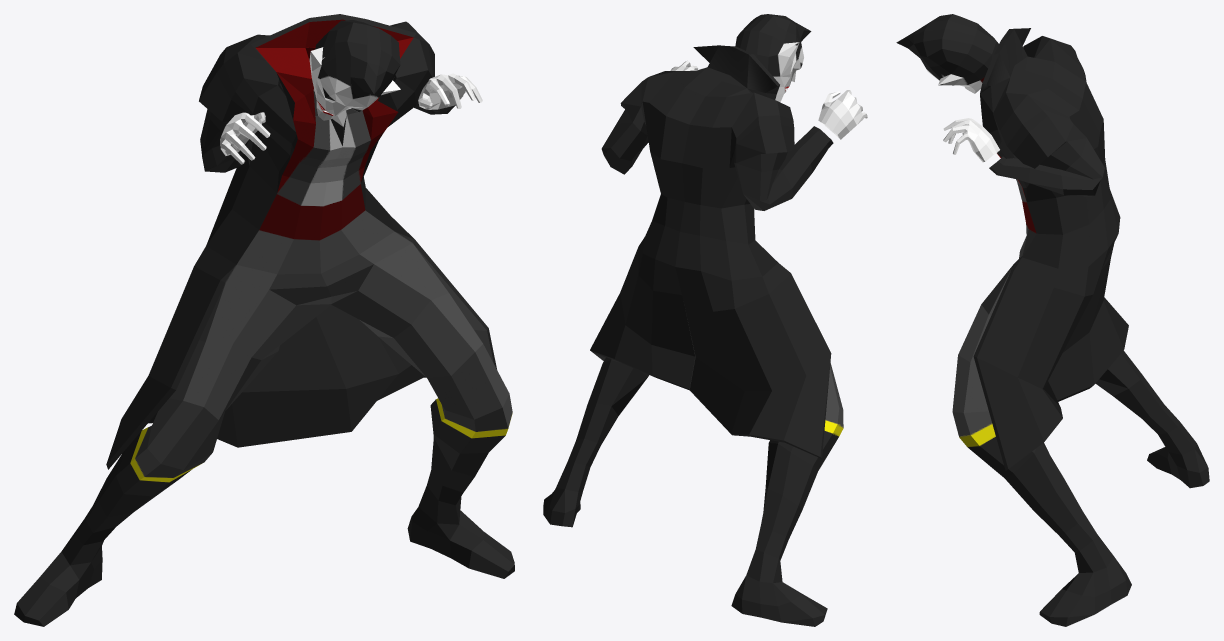
File: VampireAttack(63).obj
The picture shows the model from 3 angles, left to right: view 1: azimuth 30°, elevation 25°; view 2: azimuth 150°, elevation 25°; view 3: azimuth 270°, elevation 25°; orthographic projection. The views are drawn at different scales.
Visible parts, largest first — view 1: Plane002; view 2: Plane002; view 3: Plane002.
Part boxes in pixels (x1,y1,x2,y2): Plane002: [14, 14, 514, 626]; Plane002: [543, 14, 867, 626]; Plane002: [896, 14, 1209, 626].
Size of the model in its own units: 190 by 274 by 149.
